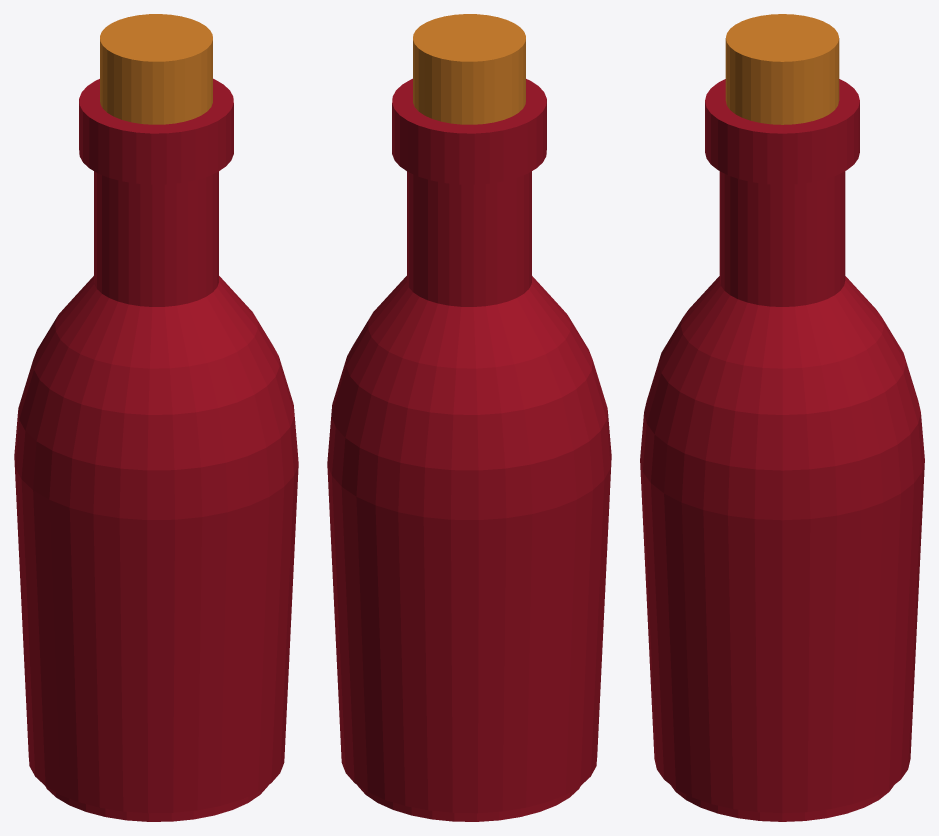
File: Prop_Laboratorio_botella.fbx
The picture shows the model from 3 angles, left to right: view 1: azimuth 30°, elevation 25°; view 2: azimuth 150°, elevation 25°; view 3: azimuth 270°, elevation 25°; orthographic projection.
Visible parts, largest first — view 1: Botella3.017; view 2: Botella3.017; view 3: Botella3.017.
Boxes of the visible parts, <box> form: Botella3.017: <box>14,14,298,821</box>; Botella3.017: <box>327,14,611,821</box>; Botella3.017: <box>640,14,924,821</box>.
Size of the model in its own units: 198 by 564 by 198.
